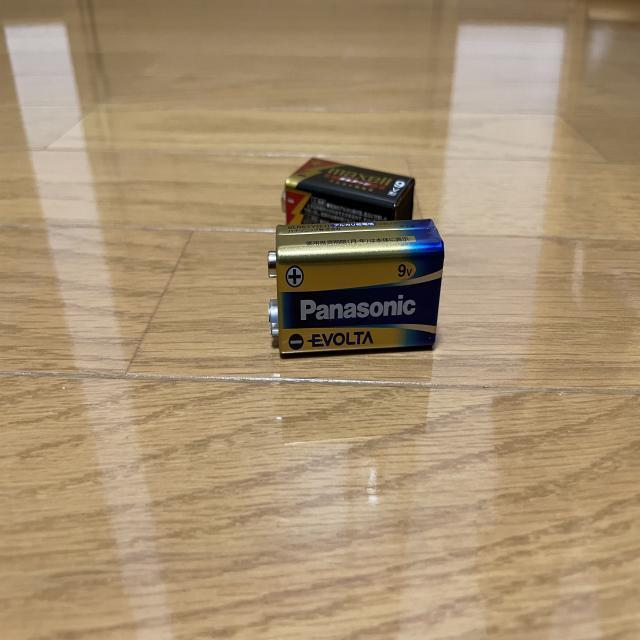9V: (264, 218, 444, 356), (279, 154, 416, 253)
